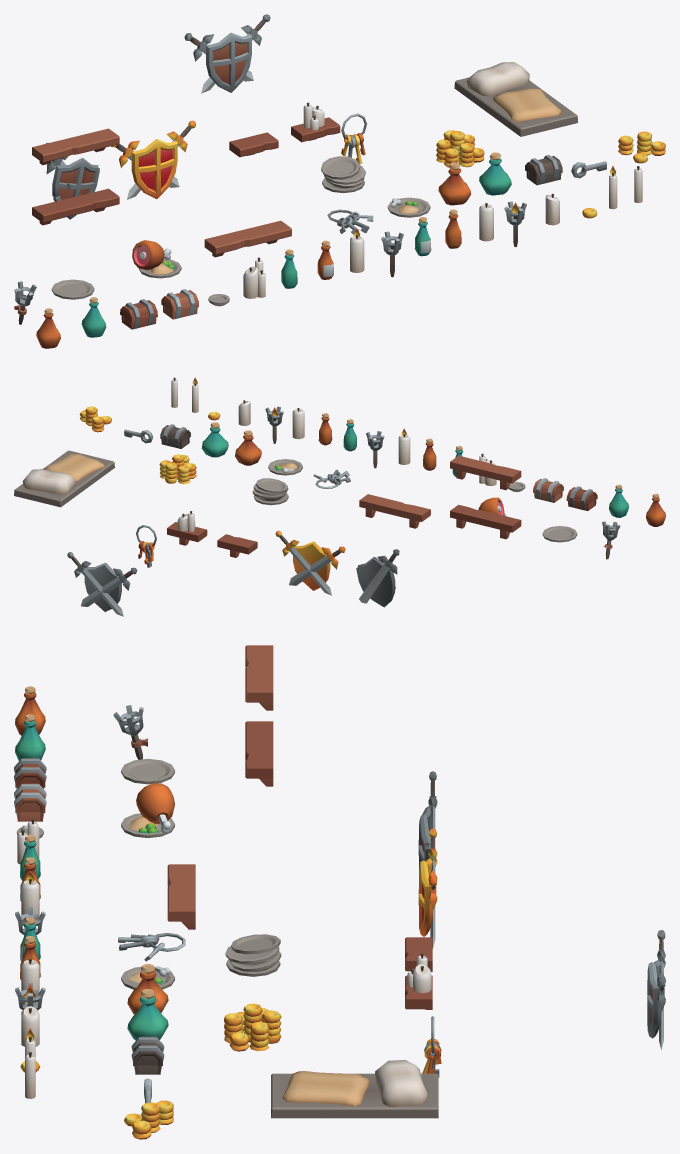
Rendered from props2_dungeon_game_assets.glb.
The picture shows the model from 3 angles, top to bottom: view 1: azimuth 30°, elevation 25°; view 2: azimuth 150°, elevation 25°; view 3: azimuth 270°, elevation 25°; orthographic projection. The views are drawn at different scales.
Visible parts, largest first — view 1: bed_floor, shelves, sword_shield, sword_shield_gold, sword_shield_broken, shelf_large, plate_stack, plate_food_A, coin_stack_medium, shelf_small_candles, coin_stack_small, bottle_C_brown (+18 smaller); view 2: bed_floor, shelves, sword_shield_gold, sword_shield, sword_shield_broken, shelf_large, coin_stack_medium, plate_stack, shelf_small_candles, bottle_C_brown, bottle_C_green, shelf_small (+12 smaller); view 3: bed_floor, shelves, coin_stack_medium, plate_food_A, plate_stack, shelf_large, sword_shield_gold, sword_shield, shelf_small_candles, bottle_C_green, coin_stack_small, trunk_small_B (+11 smaller).
Boxes of the visible parts, left/top/right/bottom form: bed_floor: left=454, top=62, right=577, bottom=136; shelves: left=32, top=128, right=119, bottom=225; sword_shield: left=184, top=14, right=270, bottom=93; sword_shield_gold: left=111, top=120, right=195, bottom=199; sword_shield_broken: left=46, top=142, right=99, bottom=219; shelf_large: left=204, top=220, right=291, bottom=257; plate_stack: left=321, top=156, right=365, bottom=192; plate_food_A: left=132, top=240, right=181, bottom=278; coin_stack_medium: left=436, top=130, right=484, bottom=167; shelf_small_candles: left=291, top=102, right=340, bottom=142; coin_stack_small: left=618, top=131, right=665, bottom=163; bottle_C_brown: left=438, top=162, right=471, bottom=205; bed_floor: left=14, top=450, right=114, bottom=507; shelves: left=450, top=455, right=521, bottom=539; sword_shield_gold: left=275, top=530, right=345, bottom=595; sword_shield: left=67, top=552, right=137, bottom=616; sword_shield_broken: left=356, top=549, right=399, bottom=607; shelf_large: left=359, top=494, right=430, bottom=528; coin_stack_medium: left=159, top=454, right=196, bottom=484; plate_stack: left=252, top=478, right=288, bottom=505; shelf_small_candles: left=167, top=511, right=207, bottom=545; bottle_C_brown: left=235, top=430, right=261, bottom=465; bottle_C_green: left=201, top=422, right=228, bottom=457; shelf_small: left=217, top=534, right=257, bottom=557; bed_floor: left=271, top=1059, right=438, bottom=1118; shelves: left=245, top=645, right=273, bottom=786; coin_stack_medium: left=224, top=1003, right=281, bottom=1051; plate_food_A: left=121, top=783, right=174, bottom=837; plate_stack: left=225, top=934, right=281, bottom=976; shelf_large: left=167, top=864, right=195, bottom=929; sword_shield_gold: left=418, top=828, right=437, bottom=948; sword_shield: left=647, top=930, right=665, bottom=1049; shelf_small_candles: left=405, top=953, right=432, bottom=1009; bottle_C_green: left=127, top=989, right=168, bottom=1040; coin_stack_small: left=124, top=1100, right=173, bottom=1139; trunk_small_B: left=131, top=1036, right=164, bottom=1074.
Size of the model in its own units: 17.53 by 3.9 by 11.67.
Materials: 39 (39 with a texture image).
